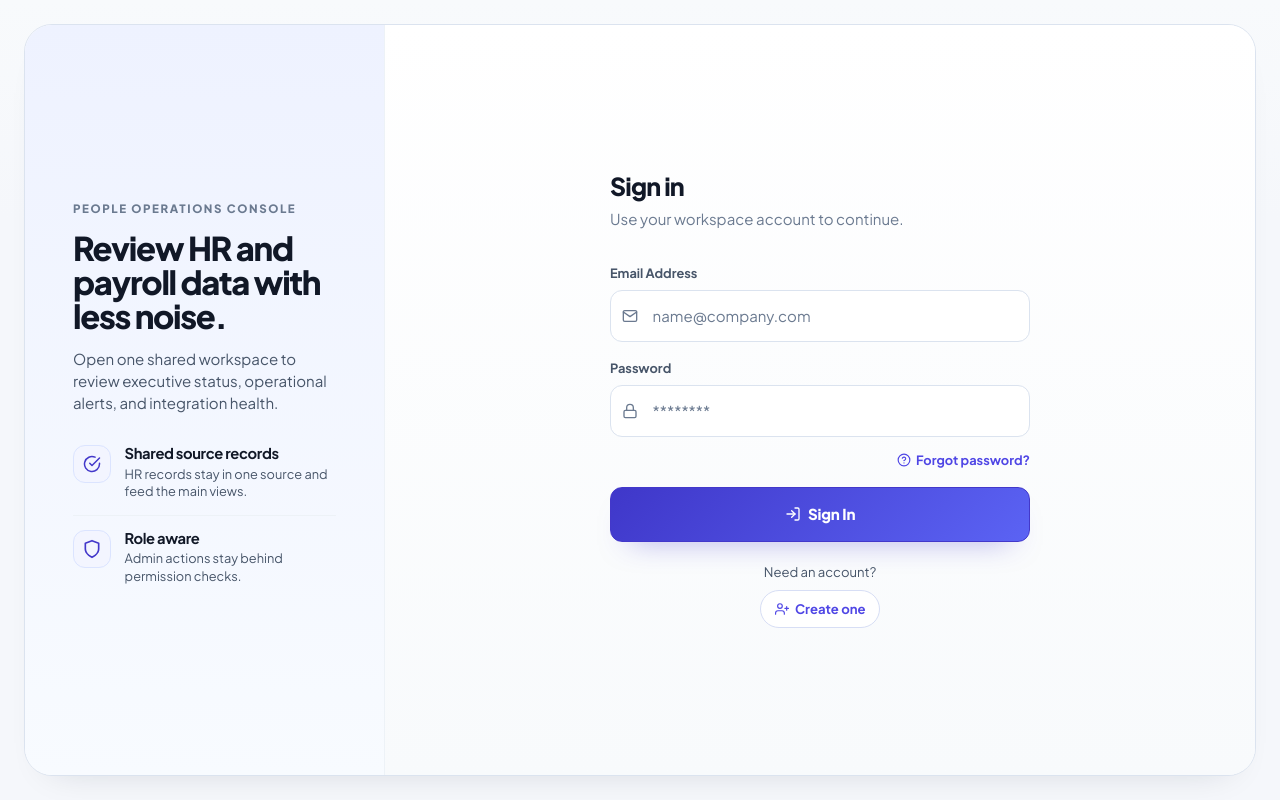
Test case: Login page › shows the same failure message inline and in toast form when sign-in fails
The image size is (1280, 800).
In the field labelled "Email Address": (820, 316) [610,290,1030,342], type "admin@localhost"
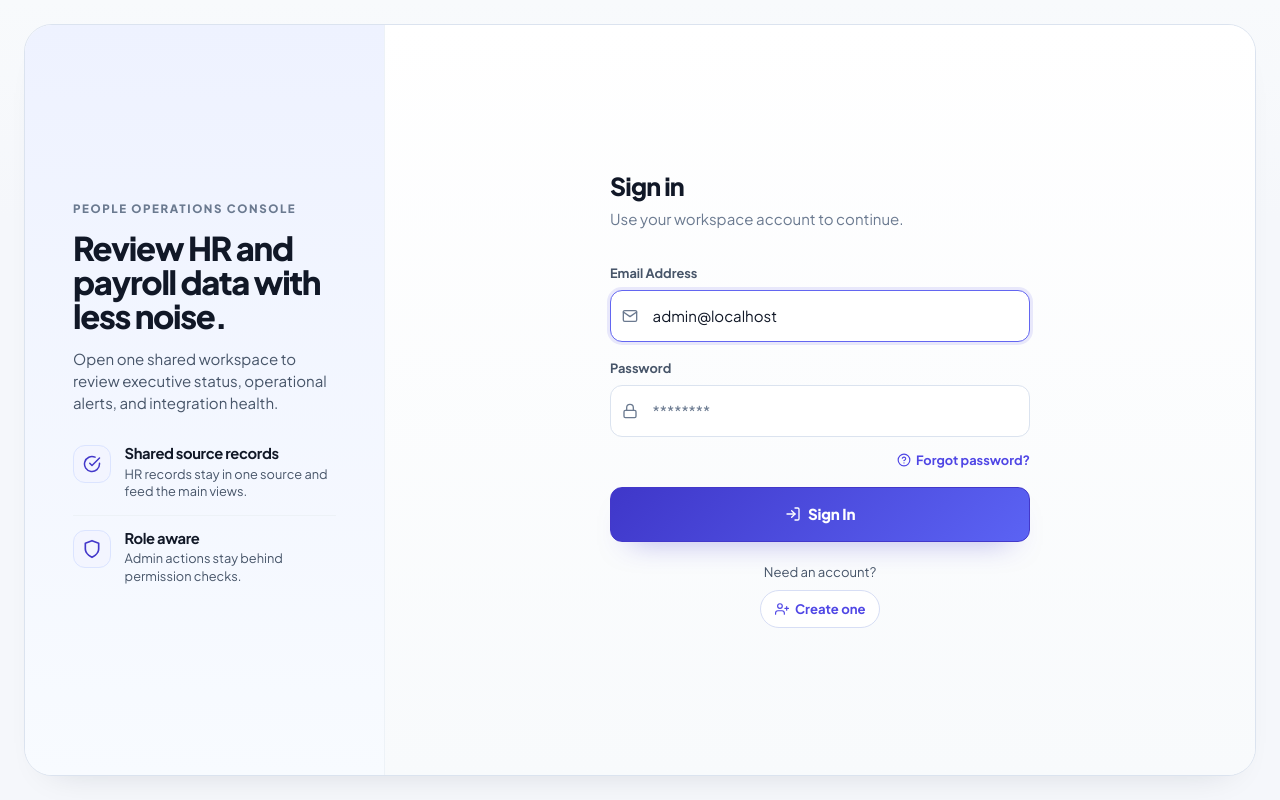
In the password field labelled "Password": (820, 411) [610,386,1030,437], type "wrong-password"
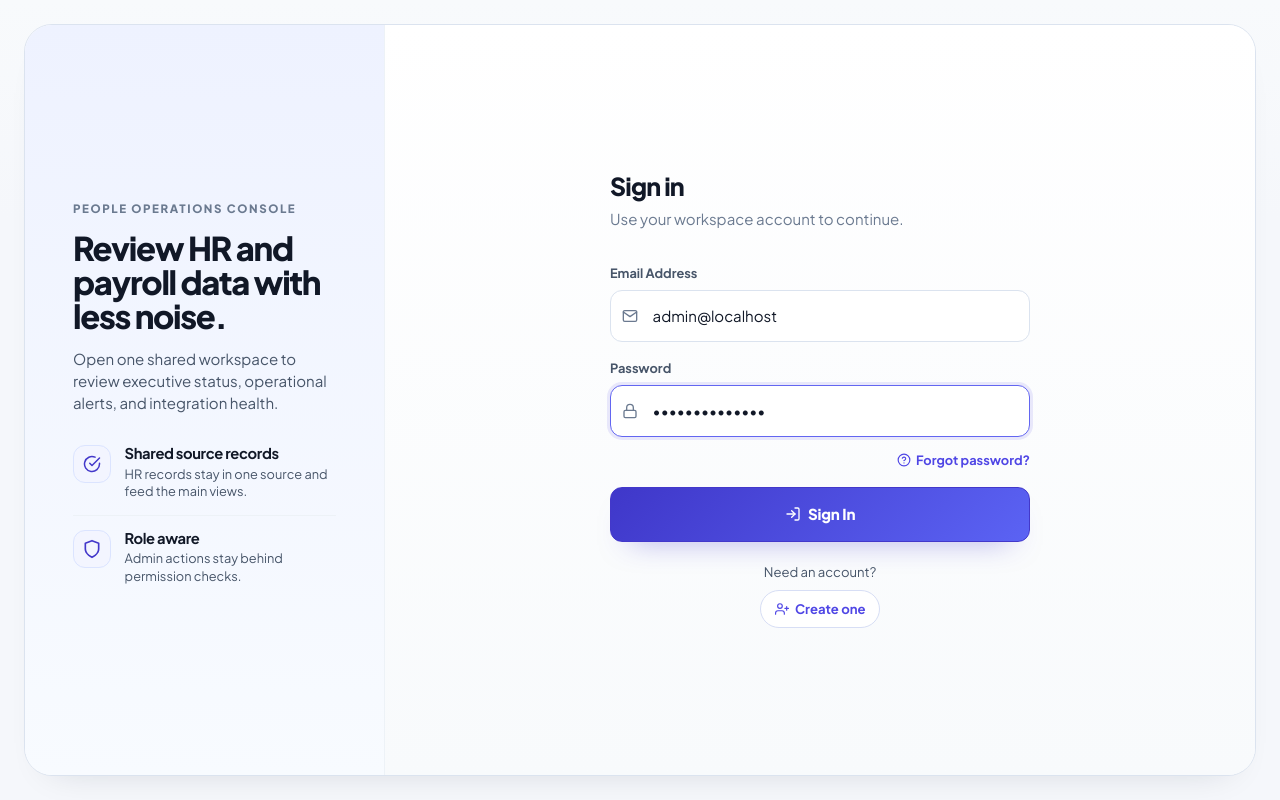
Click the button "Sign In": click(820, 514) [610,487,1030,542]
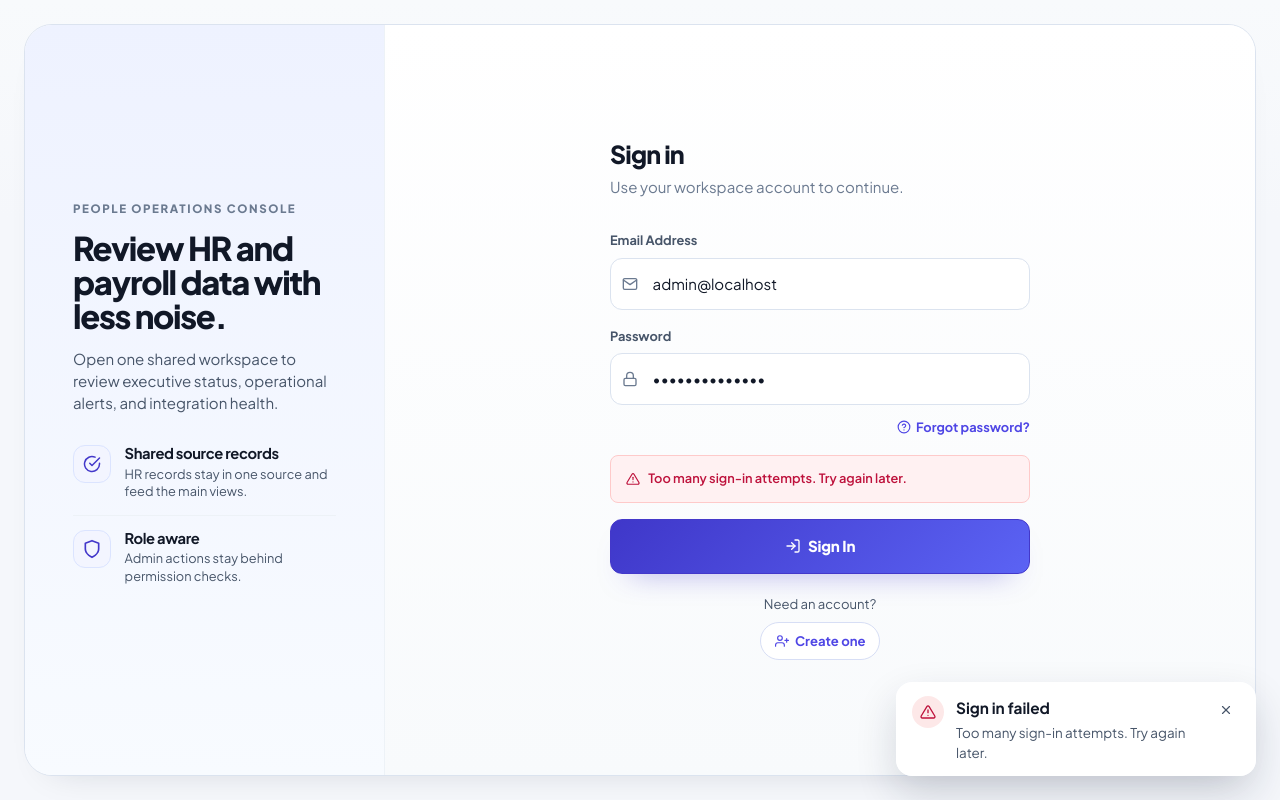
expect the text "Too many sign-in attempts. Try again later." is shown 2 times: met, box [648,468,907,489]; [956,723,1200,762]
